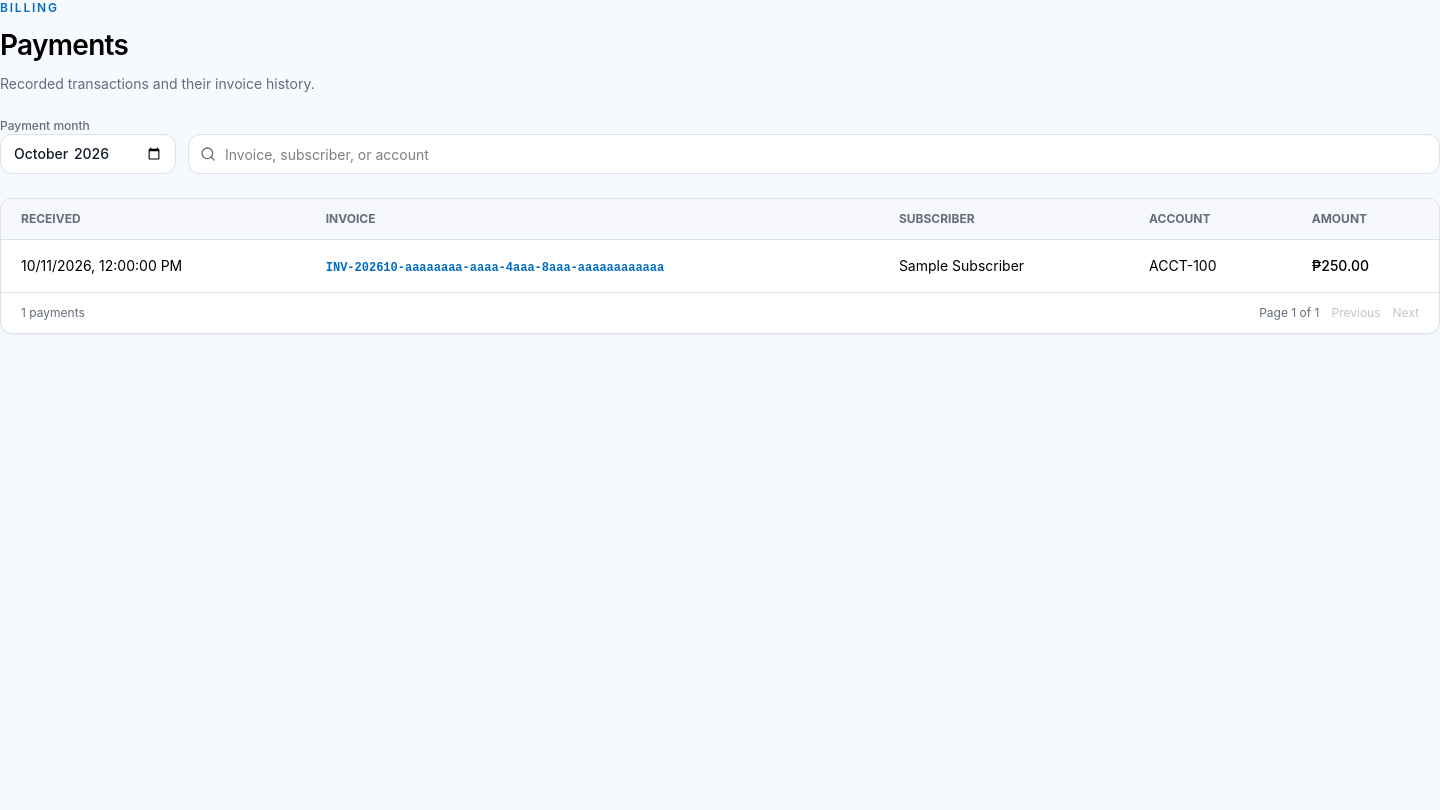
connected billing workspace screens › shows real paginated payments and opens invoice payment history
Step 1. Click the button "INV-202610-aaaaaaaa-aaaa-4aaa-8aaa-aaaaaaaaaaaa" → (495, 268), box [326,260,664,276]
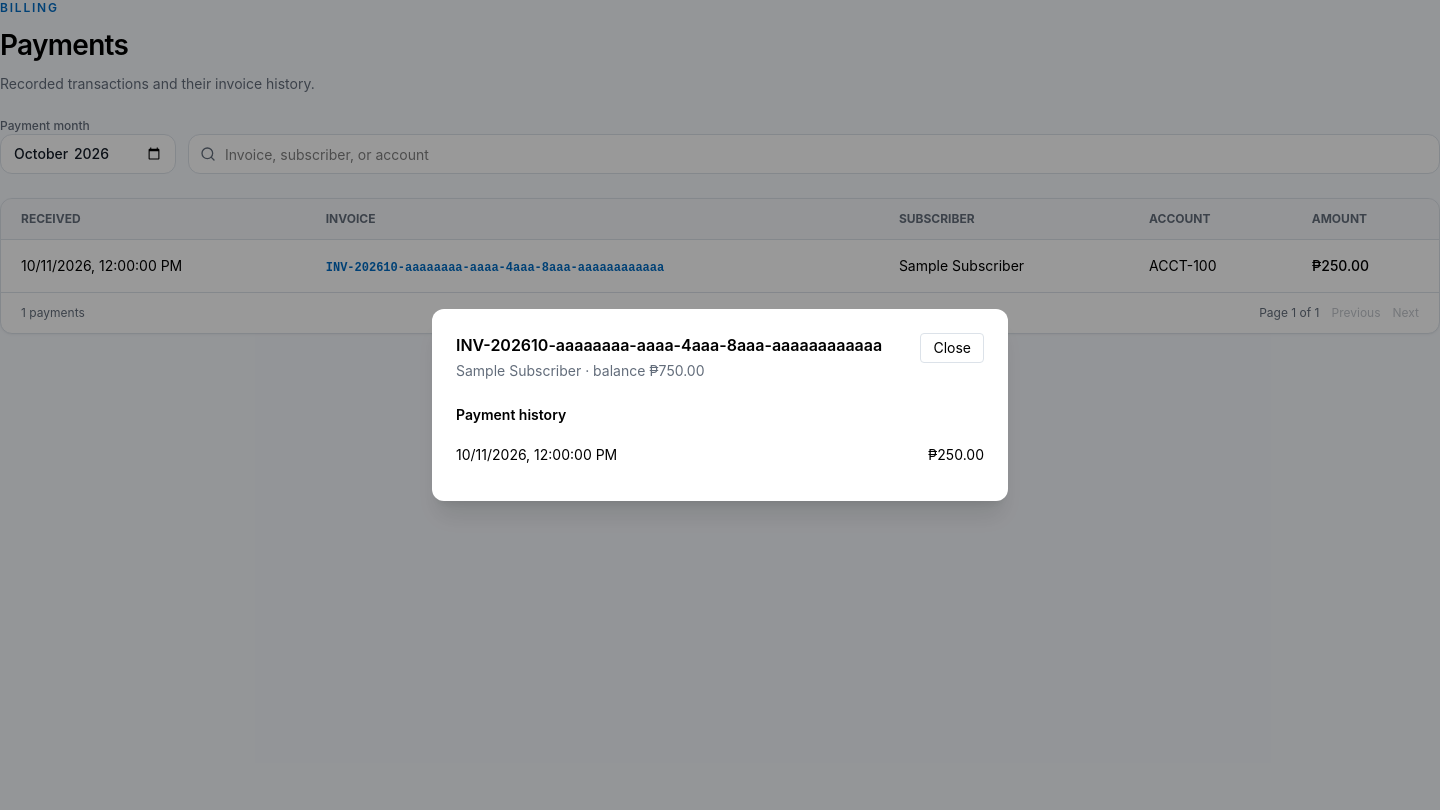
Now the text "Payment history" is shown, box [456,406,566,423]
